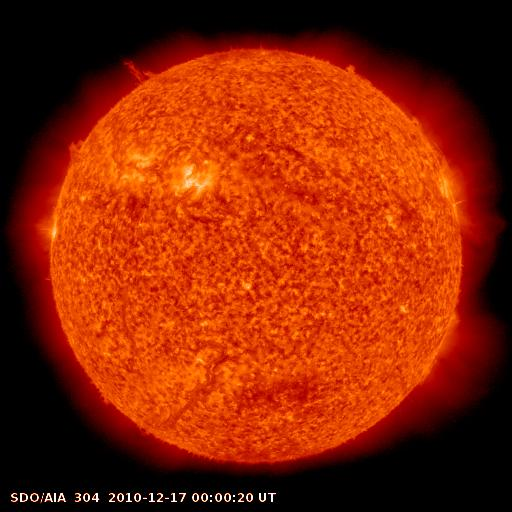prominence: (112, 47, 168, 92), (51, 127, 100, 169), (409, 109, 435, 142), (344, 56, 367, 82)
